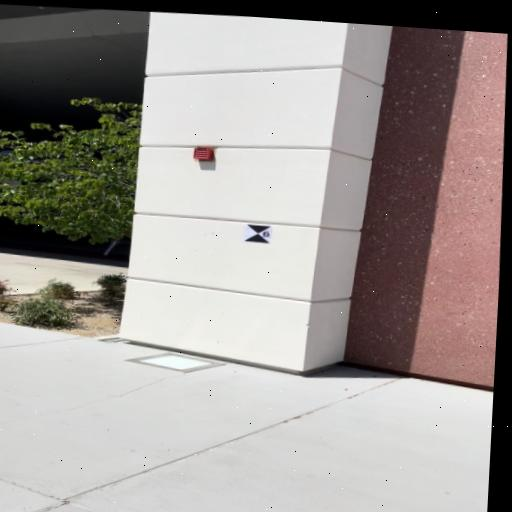target6: (244, 224, 272, 243)
